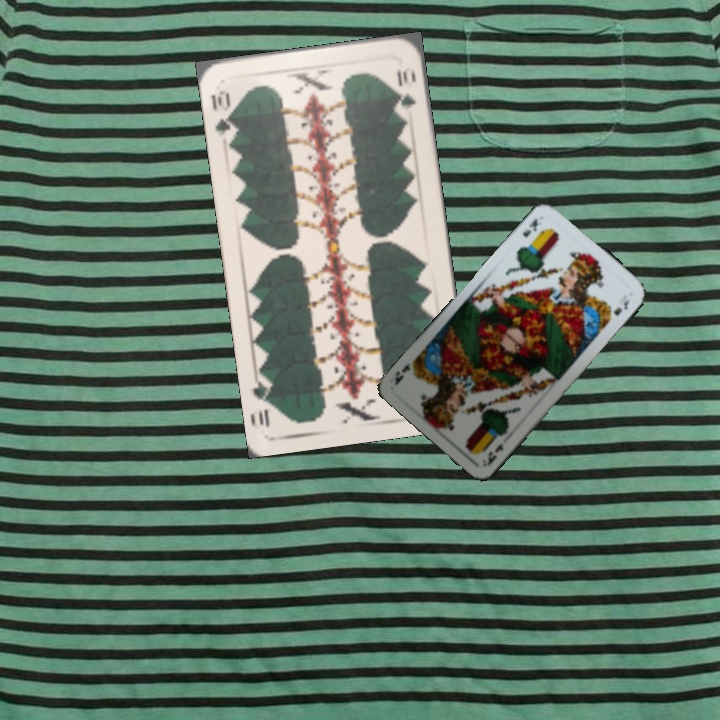EK: (482, 439, 506, 469), (518, 214, 541, 240)
G10: (207, 86, 239, 141)
